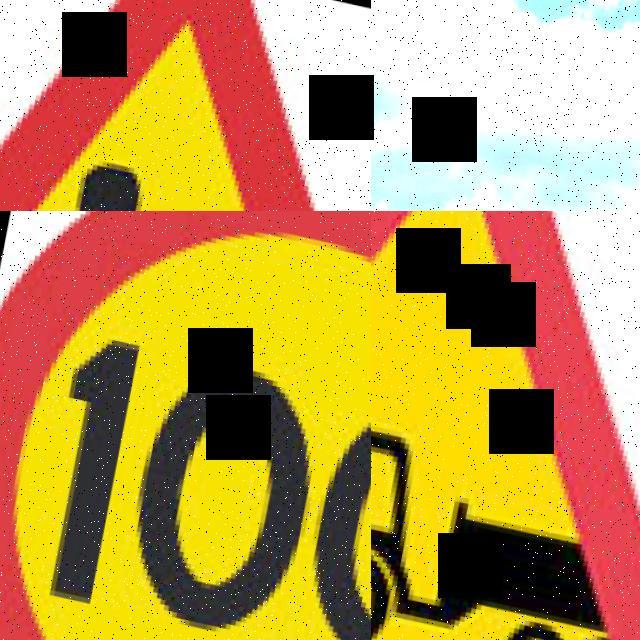132: (0, 0, 371, 211)
149: (371, 211, 640, 640)
speed limit-100: (0, 211, 371, 640)
